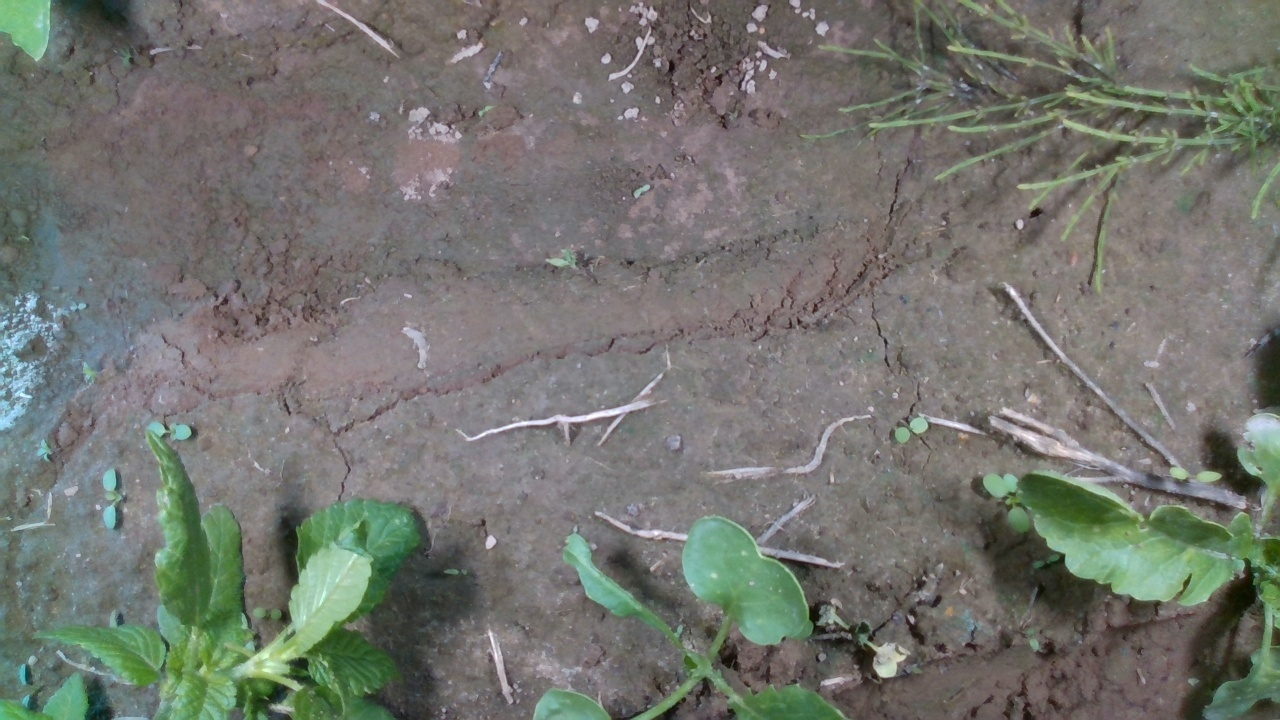weed: (100, 465, 117, 530), (893, 416, 931, 445), (1168, 465, 1223, 484), (251, 605, 284, 619), (68, 301, 89, 311)
